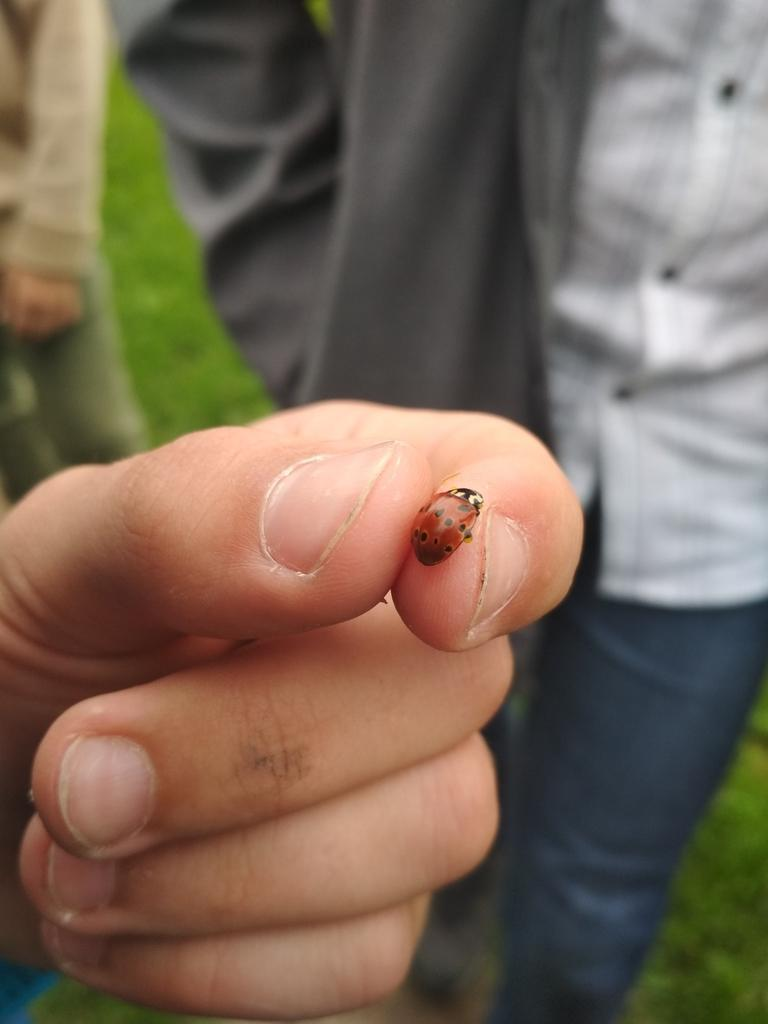ladybug: (410, 487, 488, 569)
